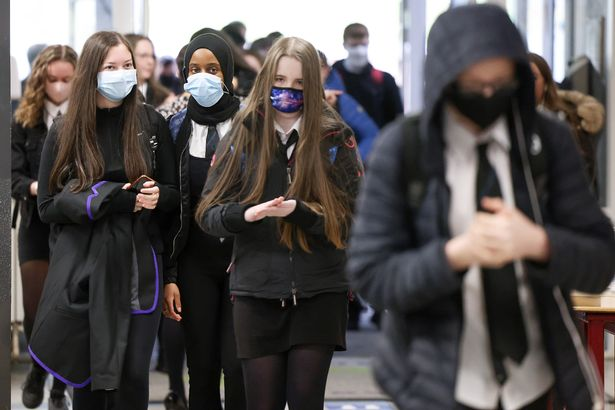with_mask: (456, 63, 511, 116), (104, 49, 133, 95), (277, 62, 304, 105), (192, 58, 219, 92), (43, 64, 71, 95), (348, 34, 365, 57)
without_mask: (138, 43, 155, 73)
